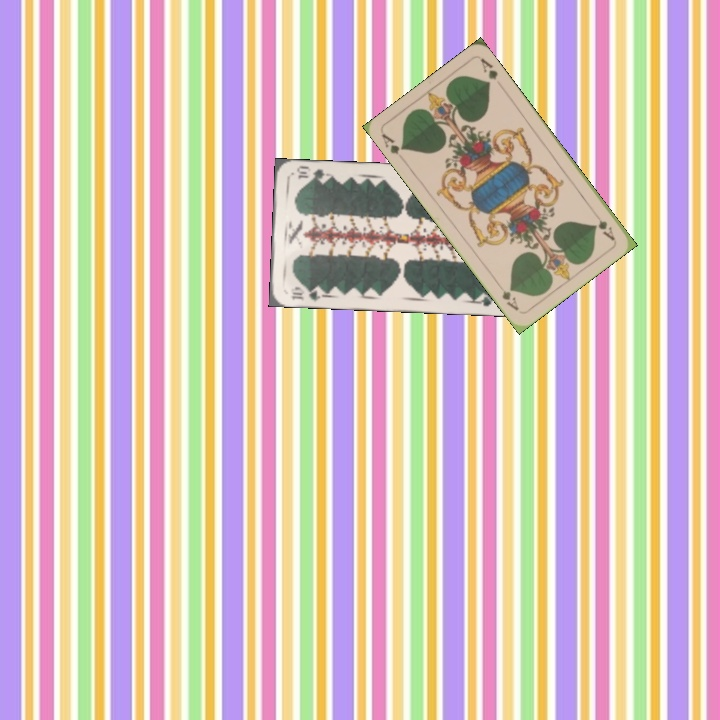G10: (287, 283, 324, 304)
GA: (377, 129, 408, 157), (594, 216, 618, 243)
